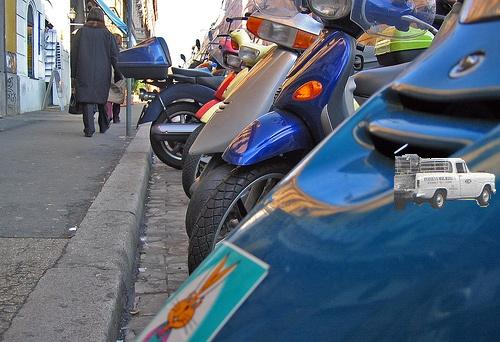tampered: (395, 155, 496, 210)
